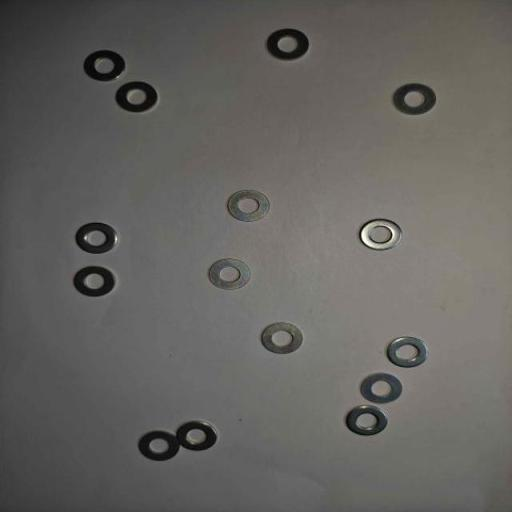Washer: (357, 217, 404, 252), (258, 320, 305, 355), (225, 188, 271, 223), (73, 220, 119, 255), (206, 256, 252, 291), (358, 370, 404, 405), (265, 27, 310, 62), (384, 334, 429, 369), (391, 82, 437, 116), (72, 264, 117, 298), (174, 419, 219, 453), (344, 404, 390, 437), (136, 429, 182, 462), (114, 81, 158, 114), (83, 49, 126, 82)
